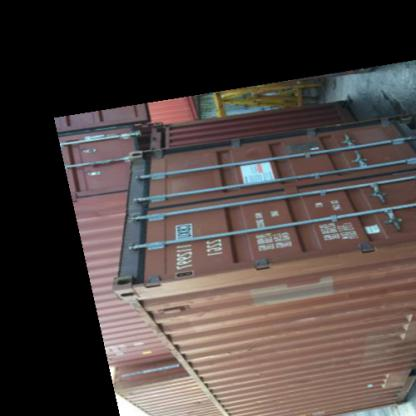Damage: (394, 304, 413, 344), (369, 365, 391, 397)
